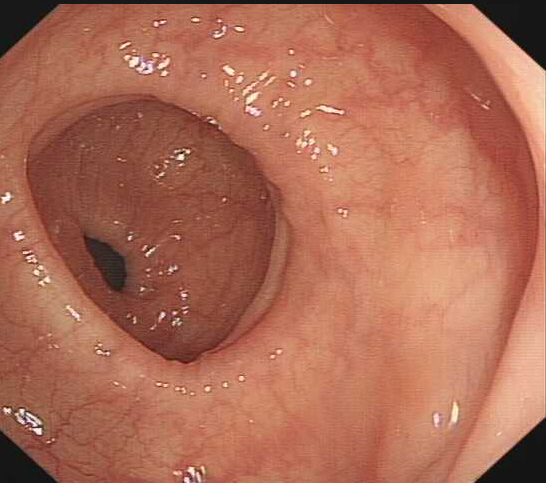adenoma: (137, 147, 205, 190)
